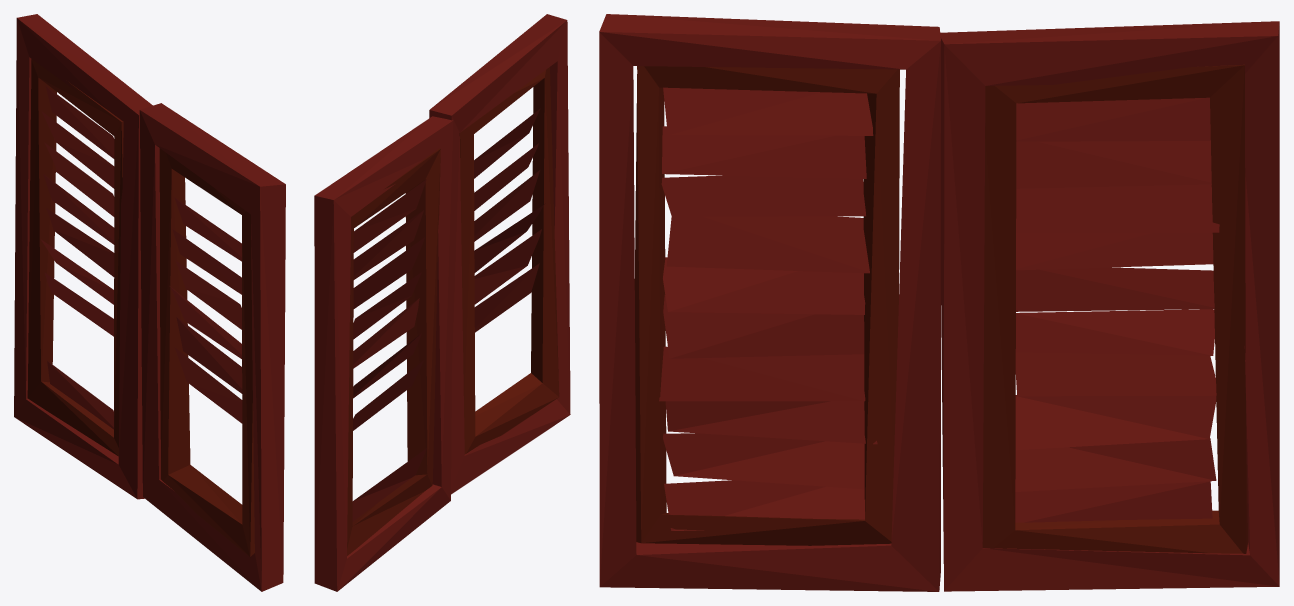
Rendered from Shutters.fbx.
The picture shows the model from 3 angles, left to right: view 1: azimuth 30°, elevation 25°; view 2: azimuth 150°, elevation 25°; view 3: azimuth 270°, elevation 25°; orthographic projection. The views are drawn at different scales.
Parts seen in each view (by area): view 1: Shutter.008, Shutter.009; view 2: Shutter.009, Shutter.008; view 3: Shutter.008, Shutter.009.
Part boxes in pixels (box(x1,y1,x2,y2)): Shutter.008: box(139, 103, 285, 591); Shutter.009: box(14, 14, 152, 499); Shutter.009: box(314, 116, 453, 591); Shutter.008: box(429, 14, 570, 494); Shutter.008: box(599, 14, 940, 591); Shutter.009: box(940, 21, 1279, 591).
Size of the model in its own units: 0.1376 by 1.76 by 1.61.
